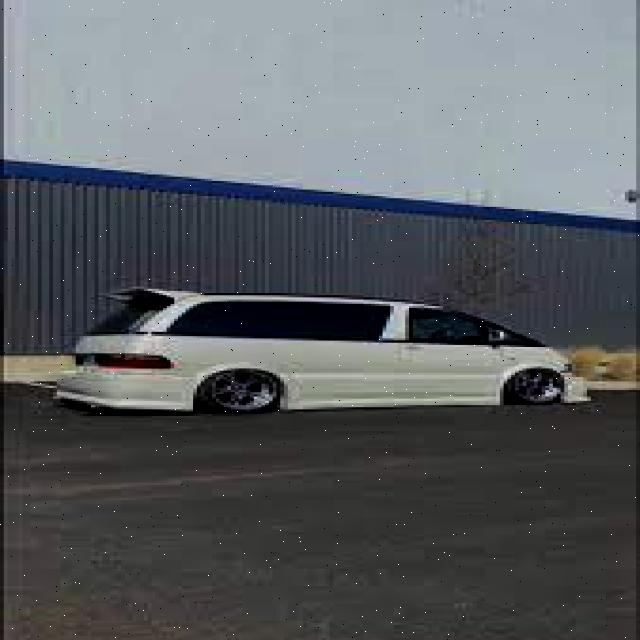Van: (53, 291, 591, 416)
